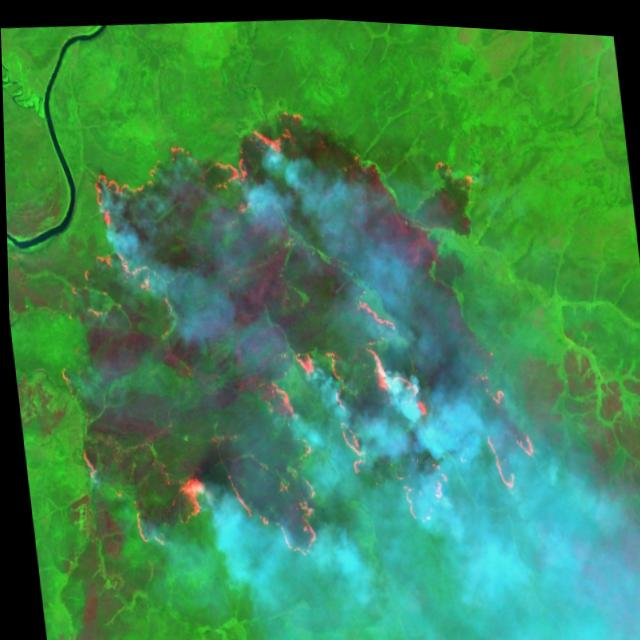fire: (29, 67, 557, 591)
